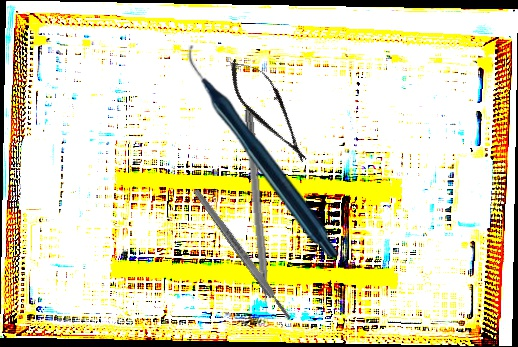Handpiece: (186, 45, 340, 257)
Micro Scissor: (218, 48, 321, 172)
Pusher: (241, 108, 273, 330)
Scalpel Handle: (192, 187, 293, 322)
